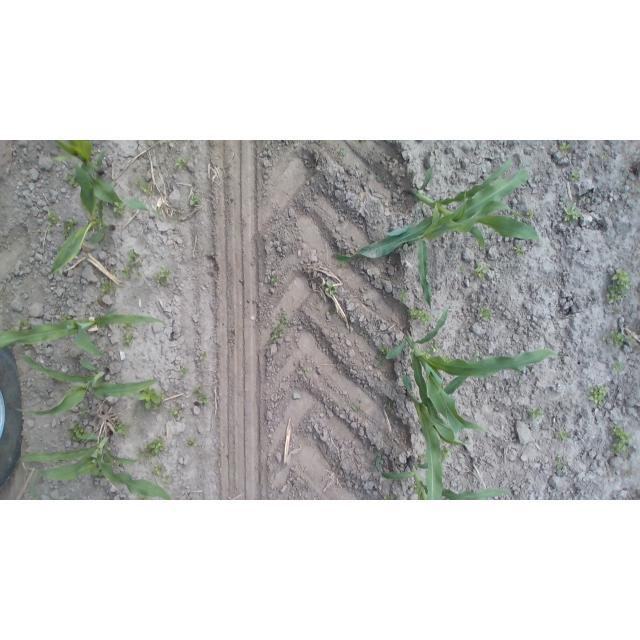Maize: (384, 305, 560, 446), (334, 158, 539, 263), (403, 168, 532, 311), (403, 337, 478, 500), (19, 430, 174, 500), (16, 353, 159, 415), (47, 157, 118, 275), (1, 308, 166, 356), (54, 140, 152, 213), (376, 451, 512, 499)
Weeds: (607, 268, 632, 305), (269, 307, 290, 345), (135, 388, 165, 413), (610, 424, 632, 457), (121, 248, 144, 278), (137, 438, 167, 459), (587, 385, 611, 408), (601, 328, 626, 349), (408, 307, 433, 325), (151, 268, 173, 287), (562, 205, 582, 225), (66, 422, 84, 443), (63, 217, 78, 239), (373, 346, 389, 366), (475, 263, 490, 281), (114, 419, 130, 435), (63, 171, 78, 188), (554, 427, 572, 441), (10, 319, 31, 330), (48, 210, 61, 227), (527, 406, 544, 419), (325, 281, 339, 296), (613, 356, 625, 373), (140, 182, 155, 195), (101, 282, 116, 295), (554, 457, 567, 472), (113, 201, 125, 216), (175, 157, 187, 172), (398, 288, 409, 304), (151, 463, 165, 475), (479, 307, 491, 321), (123, 333, 134, 348), (440, 445, 450, 461), (513, 244, 525, 257), (558, 142, 570, 154), (189, 195, 201, 206), (168, 408, 180, 419), (627, 333, 636, 346), (132, 404, 140, 418), (152, 208, 162, 219), (180, 366, 191, 376), (199, 393, 208, 405), (185, 438, 197, 447), (298, 367, 310, 376), (431, 340, 439, 353), (328, 307, 337, 318), (121, 323, 133, 331), (191, 386, 201, 395), (572, 171, 581, 181), (525, 208, 535, 217), (338, 147, 347, 157), (93, 468, 104, 476), (423, 347, 431, 358), (79, 408, 88, 417), (162, 474, 171, 483), (443, 354, 453, 362), (137, 494, 149, 500), (624, 469, 632, 478), (381, 493, 391, 500), (389, 399, 395, 410), (60, 313, 68, 321), (458, 266, 466, 274), (199, 352, 206, 361), (418, 454, 426, 461), (599, 154, 607, 161), (376, 451, 383, 458), (351, 404, 357, 412), (199, 306, 205, 314), (338, 263, 345, 269), (377, 177, 384, 183), (606, 473, 612, 480), (364, 332, 369, 340), (228, 326, 234, 332), (47, 229, 53, 235), (37, 229, 42, 236), (135, 179, 140, 186), (272, 275, 277, 282), (579, 195, 587, 199), (613, 307, 618, 313), (519, 494, 524, 500), (140, 429, 145, 434), (212, 251, 217, 255), (398, 494, 402, 498), (359, 140, 364, 142)
